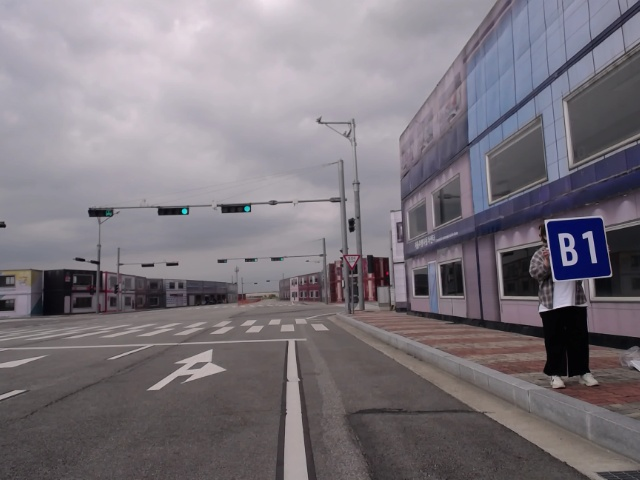delivery_b1: (546, 216, 612, 282)
straight_green_4: (158, 207, 189, 215), (222, 205, 251, 213), (245, 258, 258, 262), (271, 257, 284, 261)
